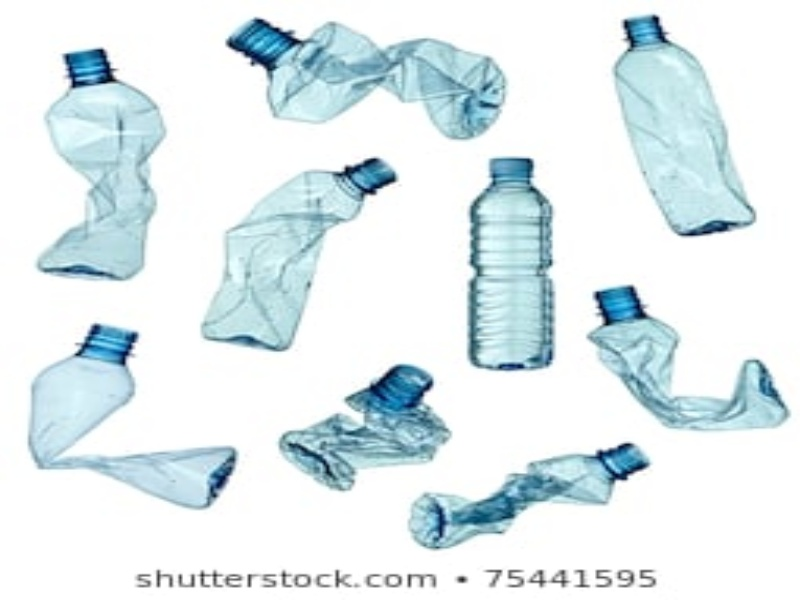bottle-cap: (486, 156, 536, 183)
plastic-bottle: (24, 321, 238, 511), (197, 161, 403, 350), (225, 16, 507, 140), (31, 44, 172, 283), (614, 12, 759, 237), (582, 281, 794, 433), (405, 438, 649, 547), (464, 149, 566, 375), (276, 364, 452, 493)
